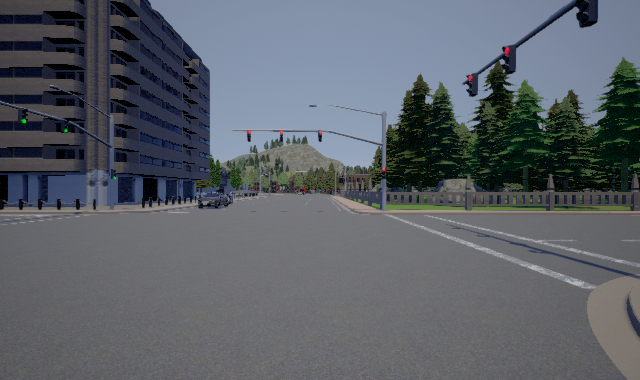traffic_light: (576, 1, 598, 28), (501, 45, 516, 74), (466, 73, 478, 97), (18, 108, 28, 124), (61, 120, 69, 133), (111, 169, 117, 179), (318, 130, 322, 142), (247, 130, 251, 142), (382, 168, 386, 179), (280, 130, 283, 142)
vehicle: (198, 193, 226, 207)
